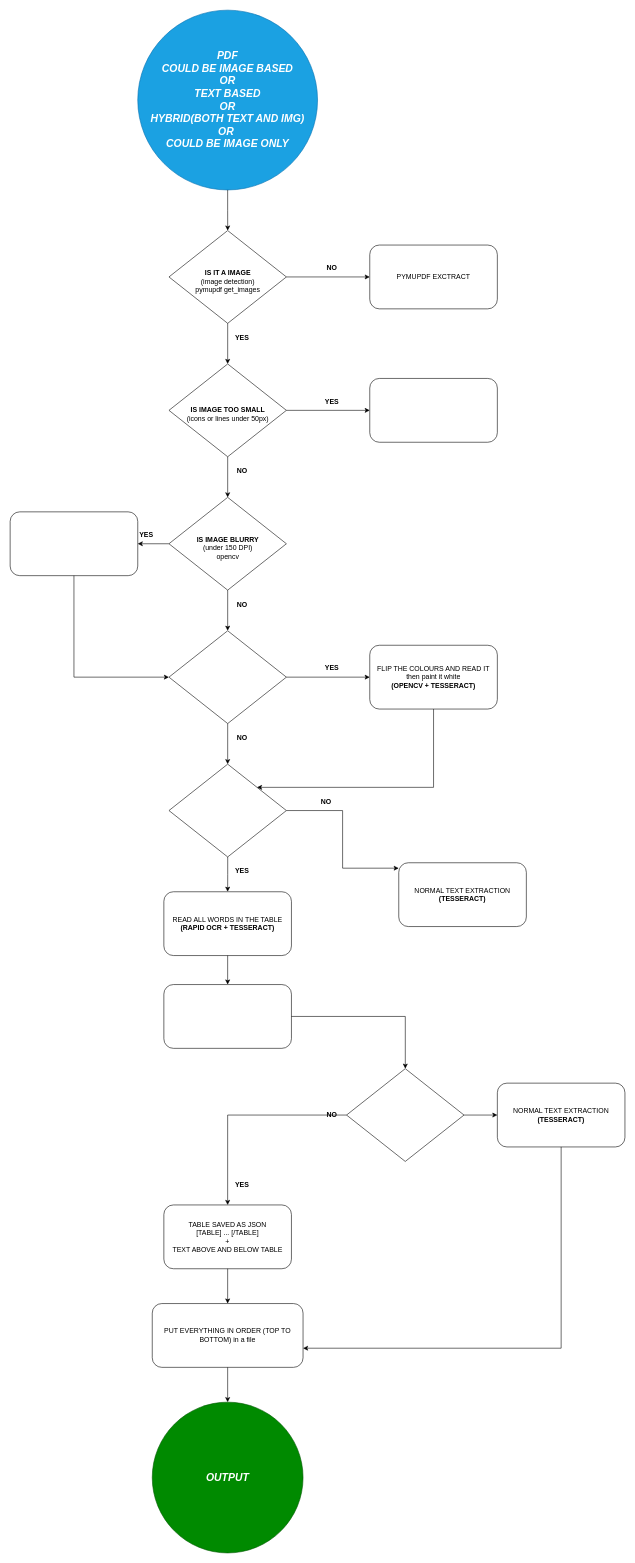
The diagram is 635 pixels wide and 1563 high, and some of its shapes have lost their labels. The shapes that lost their labels are listed below. From the top down, each one's box as (x1, y1, x2, y2) in pixels, then its label:
(369, 378, 497, 442): SKIP IT (PYTHON)
(10, 511, 138, 576): MAKE IT BIGGER TO 200 DPI (OPENCV)
(168, 630, 286, 724): DOES IMAGE HAVE DARK SIDE COLUMN (light text on dark colour) opencv
(168, 764, 286, 857): DO IMAGE HAS TABLE (table detection) rapid_table_det
(163, 984, 291, 1048): MAKE ROWS AND COLUMNS THEN TURN IT INTO JSON (RAPID_TABLE LIBRARY OF RAPPIDOCR)
(346, 1068, 464, 1161): IS IT A REAL TABLE (not too big, not a bullet list)
